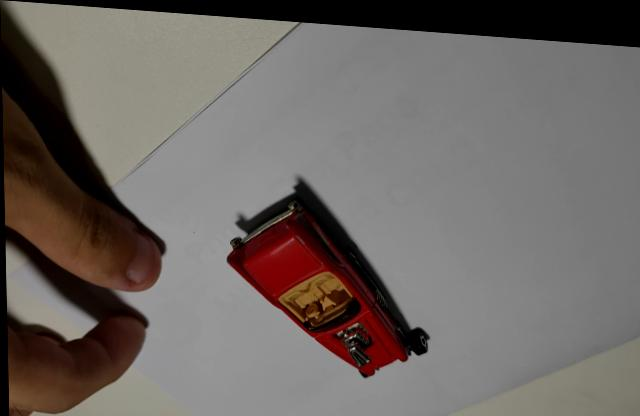03_V8: (225, 174, 429, 371)
